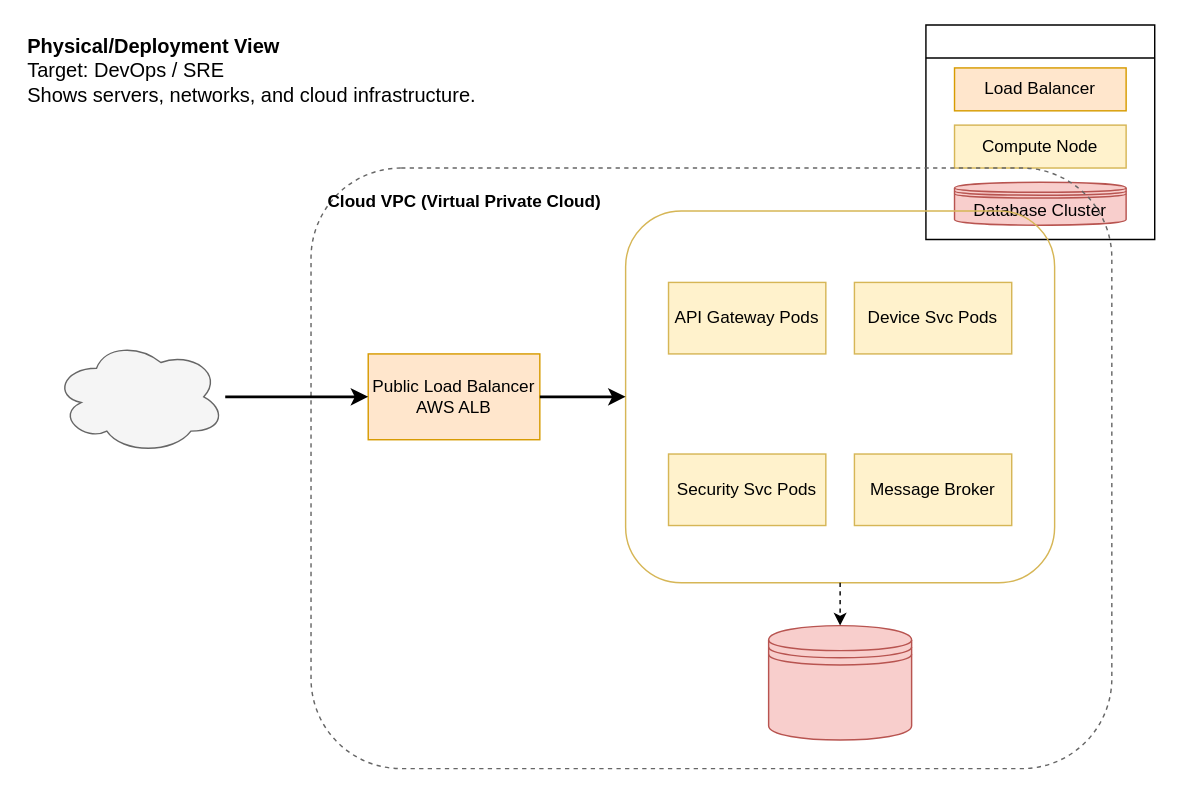
This 1180x794 diagram has some shape labels left out. The box of each missing label's shape, as (x1, y1, x2, y2) in pixels:
Internet: (52, 338, 225, 454)
Kubernetes Cluster (EKS): (624, 209, 1055, 583)
Legend: (924, 24, 1155, 240)
PostgreSQL RDS (Multi-AZ): (767, 624, 912, 740)
